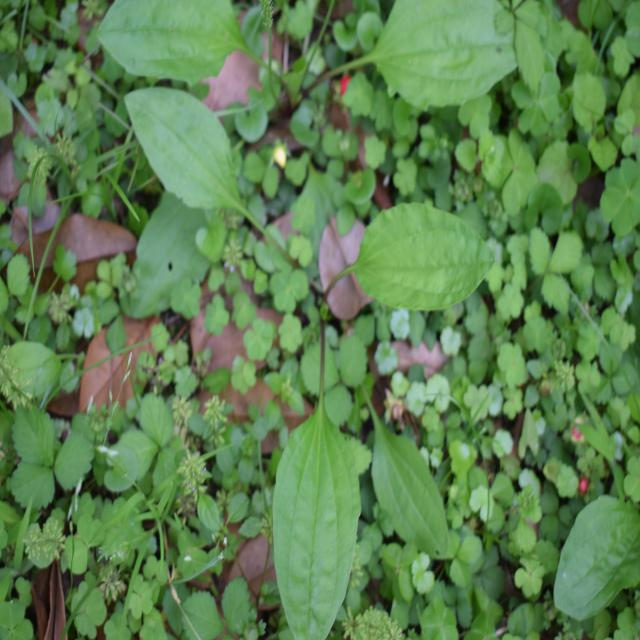plantain: (135, 92, 479, 575)
